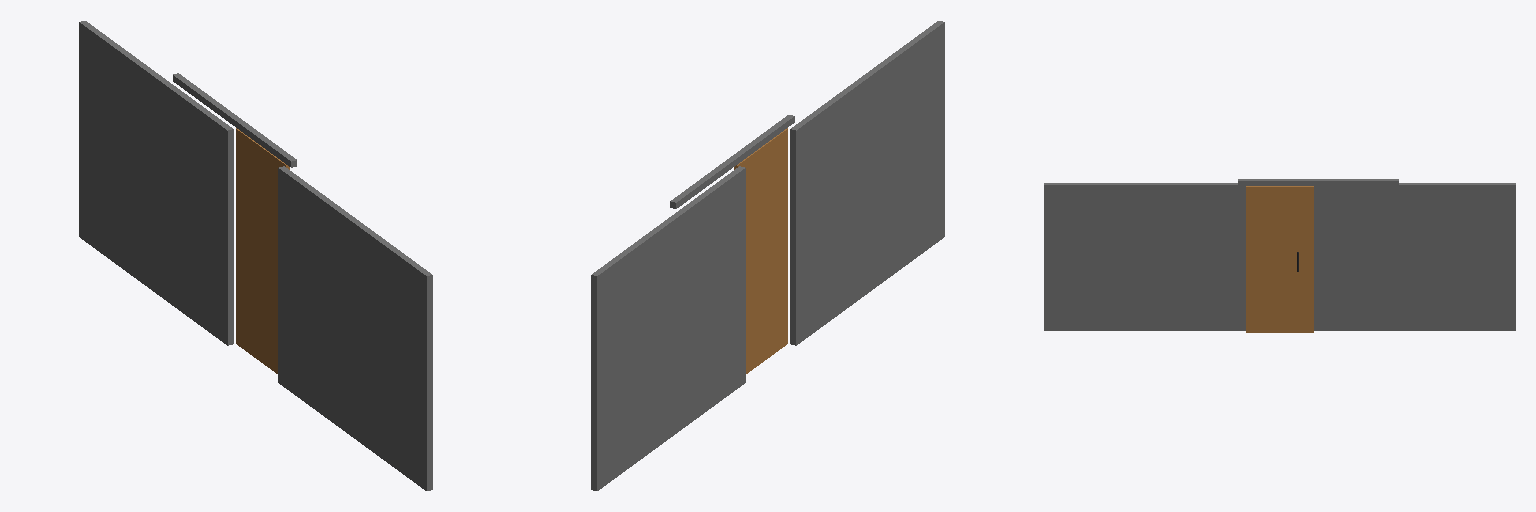
URDF robot description (sliding_door_rl):
<?xml version="1.0"?>
<!-- Sliding door, RL training variant.

     Differences from sliding_door.urdf (the perception/classical asset):
       - AprilTag anchor links removed. RL observation is state-based (no
         camera in the loop), so the three near-massless tag links only
         hurt: a 15000:1 mass ratio inside one articulation is exactly the
         kind of thing that makes the PhysX articulation solver jitter
         during contact, which is the phase being trained.
       - Canonical names shared with revolute_door_rl.urdf:
             door_frame      static base link
             door_leaf       moving link
             door_dof_joint  the single DOF that "opens"
             handle_grasp    the link the gripper takes
         so one Isaac Lab env class indexes one joint and one link, and the
         door type becomes a randomisation parameter rather than a separate
         scenario with its own observation layout.

     Convert with merge-joints (folds handle_grasp into door_leaf; a fixed
     joint carries no dynamics, so this is a no-op on the physics) and
     make-instanceable (no per-prim materials here, unlike the gripper
     fingers). Result: 2 rigid bodies, 1 DOF.

     The <dynamics> values below are DEFAULTS ONLY. Resistance is set
     explicitly in the ArticulationCfg and randomised per-env at runtime via
     write_joint_{stiffness,damping,friction_coefficient}_to_sim. Do not
     tune the door by re-converting this file.

     Convention: door face normal = +X, slide direction along +Y,
     height along +Z. No latch. Handle diameter 28mm, matching the revolute
     door's lever, so a single gripper geometry works on both. -->
<robot name="sliding_door_rl">

  <!-- ===================== RAIL / FRAME (static) ===================== -->
  <link name="door_frame">
    <visual>
      <origin xyz="0 0.9 2.05" rpy="0 0 0"/>
      <geometry><box size="0.06 2.0 0.06"/></geometry>
      <material name="frame_grey"><color rgba="0.5 0.5 0.5 1"/></material>
    </visual>
    <collision>
      <origin xyz="0 0.9 2.05" rpy="0 0 0"/>
      <geometry><box size="0.06 2.0 0.06"/></geometry>
    </collision>
    <inertial>
      <origin xyz="0 0.9 2.05"/>
      <mass value="30"/>
      <inertia ixx="10" iyy="0.02" izz="10" ixy="0" ixz="0" iyz="0"/>
    </inertial>
  </link>

  <!-- ===================== DOOR LEAF ===================== -->
  <link name="door_leaf">
    <visual>
      <origin xyz="0 0.425 1.0" rpy="0 0 0"/>
      <geometry><box size="0.04 0.85 2.0"/></geometry>
      <material name="door_wood"><color rgba="0.72 0.52 0.30 1"/></material>
    </visual>
    <collision>
      <origin xyz="0 0.425 1.0" rpy="0 0 0"/>
      <geometry><box size="0.04 0.85 2.0"/></geometry>
    </collision>
    <inertial>
      <origin xyz="0 0.425 1.0"/>
      <mass value="15"/>
      <inertia ixx="5.90" iyy="5.00" izz="0.91" ixy="0" ixz="0" iyz="0"/>
    </inertial>
  </link>

  <!-- The DOF that opens. Prismatic here, revolute in the other asset -
       same name, so the env code never branches on door type. -->
  <joint name="door_dof_joint" type="prismatic">
    <parent link="door_frame"/>
    <child link="door_leaf"/>
    <origin xyz="0 0 0" rpy="0 0 0"/>
    <axis xyz="0 1 0"/>
    <limit lower="0.0" upper="1.0" effort="200" velocity="1.0"/>
    <dynamics damping="8.0" friction="2.0"/>
  </joint>

  <!-- ===================== PULL HANDLE ===================== -->
  <!-- Vertical grip bar (r=0.014) standing off the door face along +X,
       held by two horizontal standoff rods (r=0.013). All three cylinders
       are collision primitives on the SAME rigid link - one welded
       assembly, no internal joints. -->
  <link name="handle_grasp">
    <visual>
      <origin xyz="0.07 0 0" rpy="0 0 0"/>
      <geometry><cylinder radius="0.014" length="0.25"/></geometry>
      <material name="handle_metal"><color rgba="0.2 0.2 0.22 1"/></material>
    </visual>
    <collision>
      <origin xyz="0.07 0 0" rpy="0 0 0"/>
      <geometry><cylinder radius="0.014" length="0.25"/></geometry>
    </collision>

    <visual>
      <origin xyz="0.035 0 0.10" rpy="0 1.5708 0"/>
      <geometry><cylinder radius="0.013" length="0.07"/></geometry>
      <material name="handle_metal"><color rgba="0.2 0.2 0.22 1"/></material>
    </visual>
    <collision>
      <origin xyz="0.035 0 0.10" rpy="0 1.5708 0"/>
      <geometry><cylinder radius="0.013" length="0.07"/></geometry>
    </collision>

    <visual>
      <origin xyz="0.035 0 -0.10" rpy="0 1.5708 0"/>
      <geometry><cylinder radius="0.013" length="0.07"/></geometry>
      <material name="handle_metal"><color rgba="0.2 0.2 0.22 1"/></material>
    </visual>
    <collision>
      <origin xyz="0.035 0 -0.10" rpy="0 1.5708 0"/>
      <geometry><cylinder radius="0.013" length="0.07"/></geometry>
    </collision>

    <inertial>
      <origin xyz="0.07 0 0"/>
      <mass value="0.35"/>
      <inertia ixx="1.7e-3" iyy="1.7e-3" izz="3.5e-5" ixy="0" ixz="0" iyz="0"/>
    </inertial>
  </link>

  <joint name="handle_fixed" type="fixed">
    <parent link="door_leaf"/>
    <child link="handle_grasp"/>
    <origin xyz="0.02 0.65 1.0" rpy="0 0 0"/>
  </joint>

  <!-- ===================== WALLS (left/right) ============================
       Oba zida su KOPLANARNA, na x=-0.07, dakle 0.07 m iza ravnine krila
       (krilo x -0.02..0.02, zid x -0.10..-0.04, zazor 2 cm). To je isti
       odnos kao u sliding_door.urdf, gdje su zidovi na x=0 a krilo na
       x=+0.07 zbog origina slide_jointa; ovdje door_dof_joint ima origin u
       nuli pa se isti razmak dobiva pomicanjem zidova.
       Odmak mora ostati: krilo klizi u +Y ISPRED zida, a njegov x-raspon je
       konstantan bez obzira na poziciju klizanja. Duljina svakog zida 2.5 m,
       rubovi na y=0 i y=0.85 - slobodan prolaz 0.85 m. -->

  <link name="wall_left">
    <visual>
      <origin xyz="-0.07 -1.25 1.0" rpy="0 0 0"/>
      <geometry><box size="0.06 2.5 2.0"/></geometry>
      <material name="frame_grey"/>
    </visual>
    <collision>
      <origin xyz="-0.07 -1.25 1.0" rpy="0 0 0"/>
      <geometry><box size="0.06 2.5 2.0"/></geometry>
    </collision>
    <inertial>
      <origin xyz="-0.07 -1.25 1.0"/>
      <mass value="100"/>
      <inertia ixx="85.4" iyy="33.4" izz="52.1" ixy="0" ixz="0" iyz="0"/>
    </inertial>
  </link>

  <joint name="wall_left_joint" type="fixed">
    <parent link="door_frame"/>
    <child link="wall_left"/>
    <origin xyz="0 0 0" rpy="0 0 0"/>
  </joint>

  <link name="wall_right">
    <visual>
      <origin xyz="-0.07 2.10 1.0" rpy="0 0 0"/>
      <geometry><box size="0.06 2.5 2.0"/></geometry>
      <material name="frame_grey"/>
    </visual>
    <collision>
      <origin xyz="-0.07 2.10 1.0" rpy="0 0 0"/>
      <geometry><box size="0.06 2.5 2.0"/></geometry>
    </collision>
    <inertial>
      <origin xyz="-0.07 2.10 1.0"/>
      <mass value="100"/>
      <inertia ixx="85.4" iyy="33.4" izz="52.1" ixy="0" ixz="0" iyz="0"/>
    </inertial>
  </link>

  <joint name="wall_right_joint" type="fixed">
    <parent link="door_frame"/>
    <child link="wall_right"/>
    <origin xyz="0 0 0" rpy="0 0 0"/>
  </joint>

</robot>

--- Render facts (derived) ---
The picture shows the robot from 3 angles, left to right: view 1: azimuth 30°, elevation 25°; view 2: azimuth 150°, elevation 25°; view 3: azimuth 270°, elevation 25°; orthographic projection.
Model sliding_door_rl with 5 links and 4 joints (1 prismatic, 3 fixed), rooted at door_frame, posed every joint at zero.
Visible links, largest first — view 1: wall_left, wall_right, door_leaf, door_frame; view 2: wall_left, wall_right, door_leaf, door_frame; view 3: wall_left, wall_right, door_leaf, door_frame.
Link boxes in pixels (x1,y1,x2,y2): wall_left: (278,166,432,490); wall_right: (79,21,233,345); door_leaf: (236,128,289,373); door_frame: (173,73,296,167); wall_left: (790,21,944,345); wall_right: (591,166,745,490); door_leaf: (734,128,787,373); door_frame: (670,115,794,208); wall_left: (1044,183,1245,330); wall_right: (1314,183,1515,330); door_leaf: (1246,186,1313,332); door_frame: (1238,179,1398,185).
Bounding box of the posed robot: 0.204 × 5.85 × 2.08 m (x, y, z).
Geometry: primitives only (box / cylinder / sphere), no mesh files.
